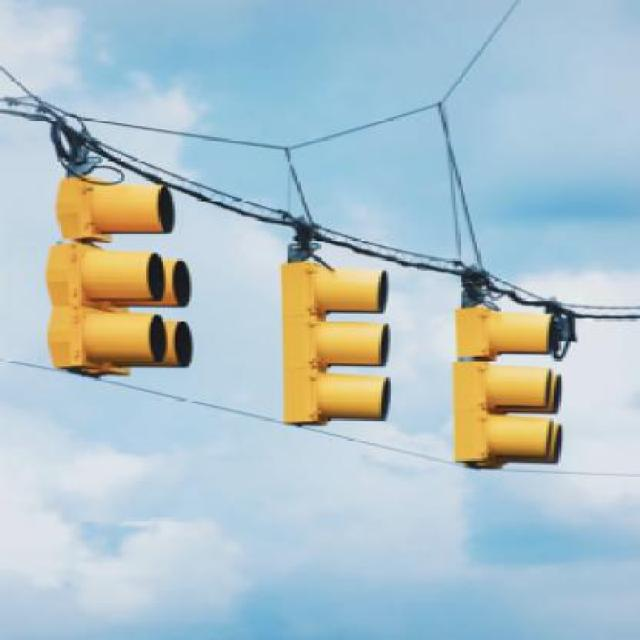Traffic_signal: (46, 174, 192, 378), (277, 258, 389, 434), (451, 302, 557, 470)
